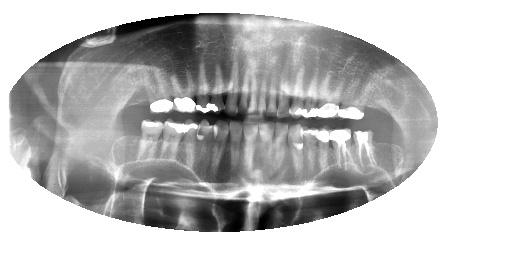i10healthy: (225, 118, 243, 170)
i11healthy: (207, 115, 229, 175)
i12chipped: (194, 112, 215, 174)
i13healthy: (179, 114, 199, 171)
i14healthy: (159, 118, 185, 167)
i15healthy: (135, 116, 164, 163)
i2healthy: (349, 125, 381, 173)
i3healthy: (328, 125, 353, 172)
i4healthy: (315, 124, 332, 173)
i5healthy: (301, 124, 319, 171)
i6healthy: (284, 118, 305, 173)
i7healthy: (271, 119, 291, 170)
i8healthy: (256, 120, 276, 170)
i9healthy: (240, 118, 261, 173)
u10decay: (236, 63, 250, 117)
u11healthy: (222, 55, 238, 117)
u12healthy: (203, 59, 230, 112)
u13healthy: (194, 57, 211, 115)
u14healthy: (166, 56, 198, 116)
u15healthy: (139, 66, 177, 117)
u2healthy: (338, 68, 376, 125)
u3healthy: (316, 61, 346, 120)
u4healthy: (300, 64, 320, 120)
u5healthy: (288, 58, 307, 122)
u6healthy: (276, 63, 292, 121)
u7decay: (263, 64, 280, 120)
u8healthy: (254, 67, 269, 119)
u9healthy: (245, 65, 259, 116)
